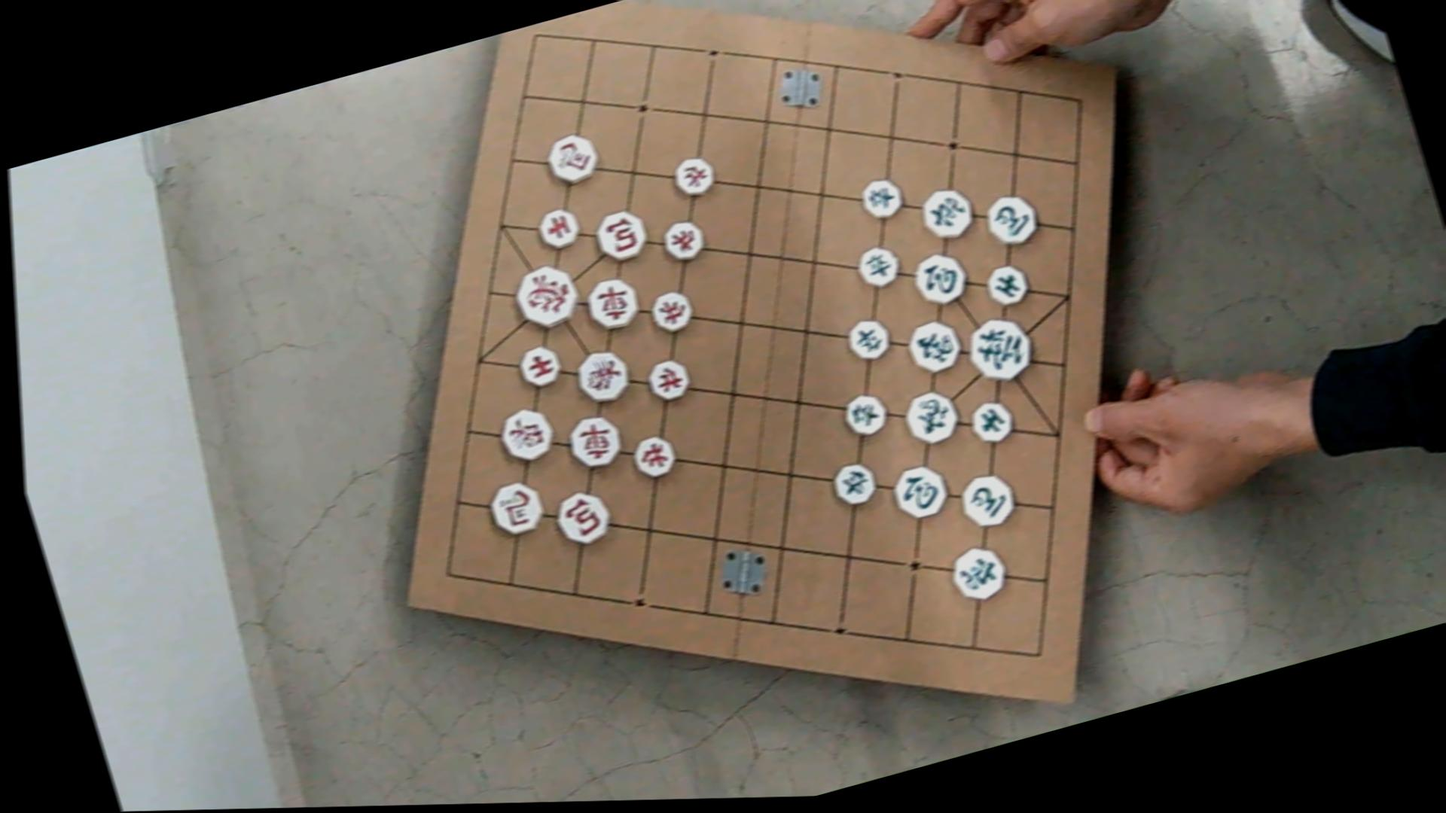cha_green: (947, 540, 1011, 605), (915, 183, 979, 244)
cha_red: (563, 411, 626, 473), (581, 273, 643, 333)
jol_green: (853, 242, 904, 291), (829, 459, 880, 508), (844, 315, 894, 364), (840, 390, 891, 438), (857, 174, 907, 221)
jol_red: (629, 432, 680, 480), (647, 288, 697, 335), (645, 356, 694, 403), (659, 217, 709, 263), (670, 153, 718, 199)
ma_green: (956, 470, 1019, 531), (980, 189, 1043, 250)
ma_red: (484, 477, 548, 538), (543, 130, 603, 187)
po_green: (886, 461, 952, 522), (909, 248, 972, 309)
po_red: (552, 486, 615, 549), (590, 206, 652, 265)
sa_green: (967, 397, 1017, 445), (983, 262, 1031, 308)
sa_red: (532, 204, 584, 253), (514, 342, 564, 390)
sang_green: (898, 385, 965, 449), (904, 316, 967, 376)
sang_red: (494, 403, 559, 466), (571, 345, 633, 406)
wang_green: (959, 310, 1040, 388)
wang_red: (510, 259, 584, 332)
